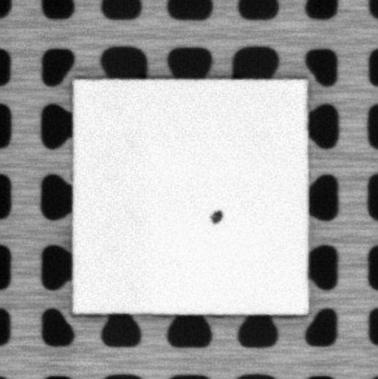DIE_INK: (209, 208, 224, 225)
